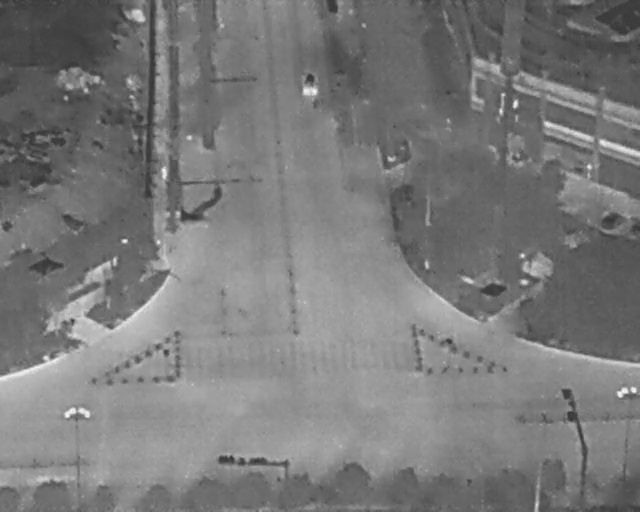Car: (594, 203, 629, 237), (301, 71, 320, 99), (629, 217, 639, 240)
